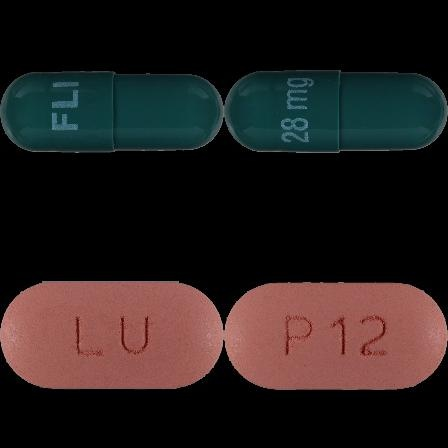68151-5829: (0, 0, 224, 224)
